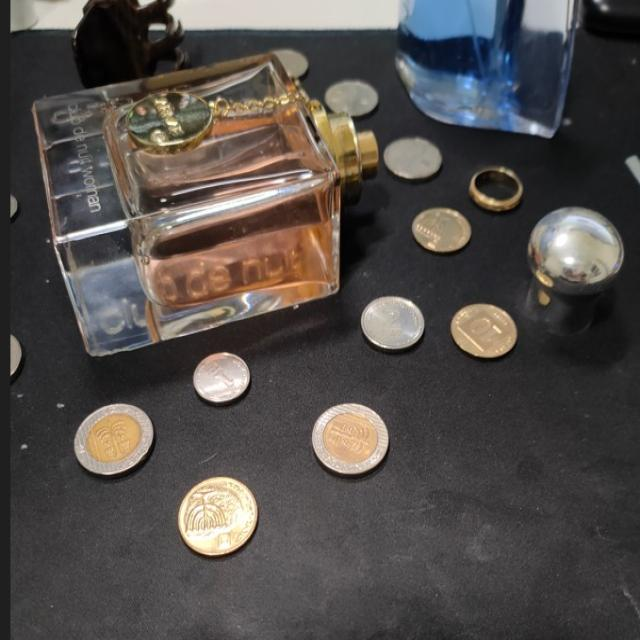1-shekel: (192, 351, 255, 407)
10-shekel: (312, 402, 394, 484), (74, 400, 152, 475)
2-shekel: (361, 293, 425, 353)
